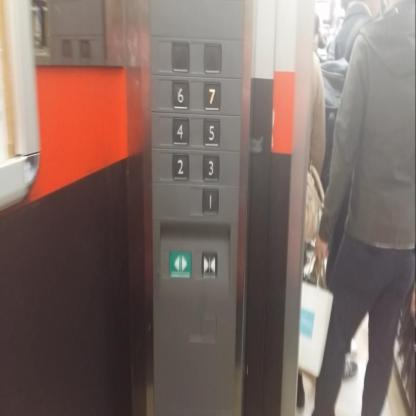1: (201, 186, 220, 216)
2: (171, 151, 190, 183)
3: (201, 151, 220, 183)
4: (171, 115, 190, 147)
5: (202, 116, 221, 148)
6: (171, 78, 190, 112)
7: (202, 79, 222, 112)
close: (200, 250, 218, 280)
empty: (171, 39, 191, 73), (203, 41, 222, 74)
open: (168, 248, 193, 280)
